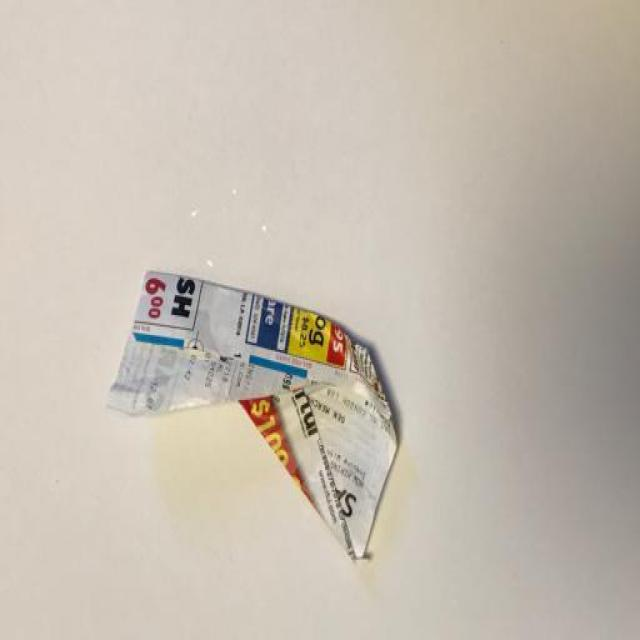paper: (99, 253, 415, 577)
